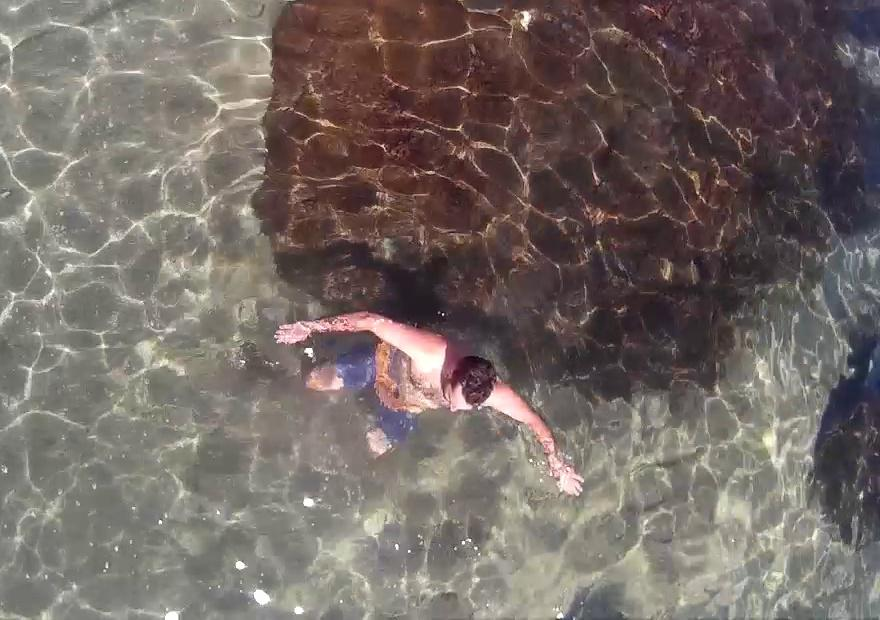swimmer: (317, 270, 579, 504)
